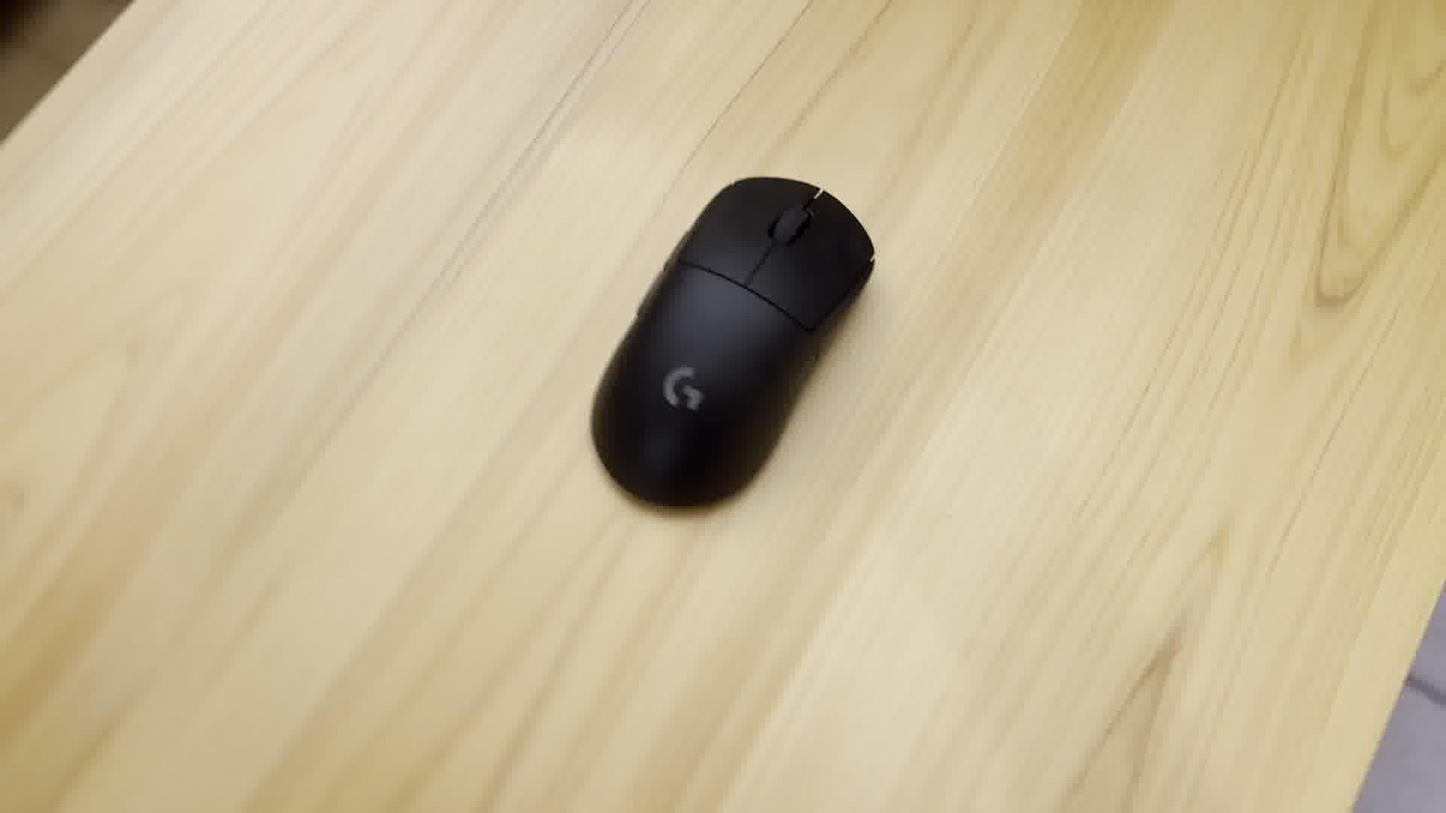mouse: (582, 169, 879, 522)
